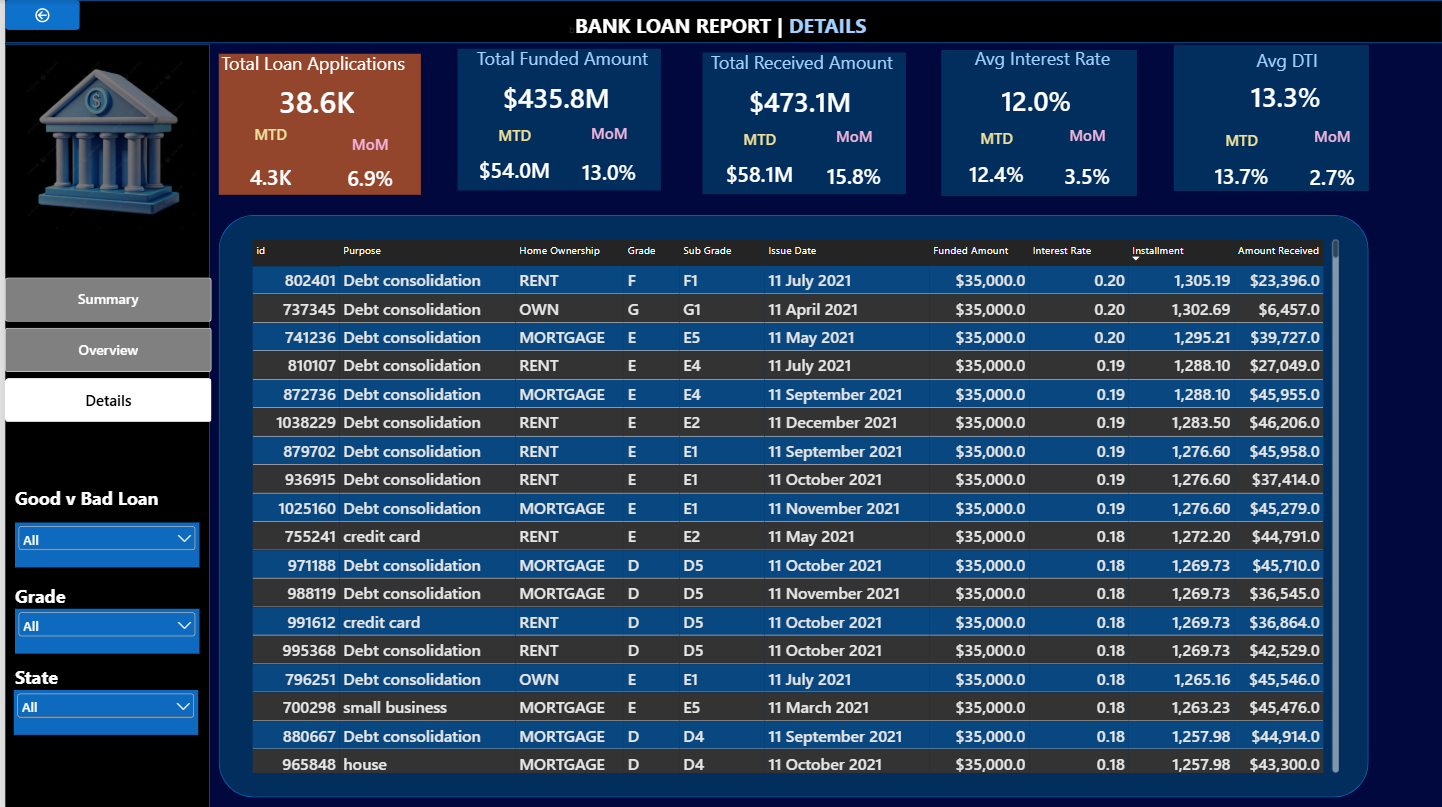

Layout of this report page (visuals, bound fields, positions):
{"tool":"powerbi","page":{"name":"Details","canvas":[1920,1080],"ordinal":2},"visuals":[{"type":"shape","box":[1562,60,260.7,195],"z":0,"group":"g5"},{"type":"shape","box":[605.3,65.8,271.7,189.4],"z":0,"group":"g2"},{"type":"shape","box":[1251.3,65.9,261.4,195.4],"z":0,"group":"g4"},{"type":"shape","box":[930.4,69.9,271.7,189.4],"z":0,"group":"g3"},{"type":"shape","box":[286,72.1,270,188.4],"z":0,"group":"g1"},{"type":"shape","box":[286,288,1536,778],"z":0},{"type":"shape","box":[0,0,1920.4,57.6],"z":1000},{"type":"cardVisual","fields":{"Data":["financial_loan.Avg DTI"]},"box":[1627.7,91.8,169.9,72.1],"z":1000,"group":"g5"},{"type":"cardVisual","fields":{"Data":["financial_loan.Total Funded Amount"]},"box":[648.7,95.1,177,70],"z":1000,"group":"g2"},{"type":"cardVisual","fields":{"Data":["financial_loan.Avg Interest Rate"]},"box":[1293,96.2,170.3,72.2],"z":1000,"group":"g4"},{"type":"cardVisual","fields":{"Data":["financial_loan.Total Amount Received"]},"box":[973.8,99.3,177,70],"z":1000,"group":"g3"},{"type":"cardVisual","fields":{"Data":["financial_loan.Total Loan Applications"]},"box":[329,100.8,175.9,67.6],"z":1000,"group":"g1"},{"type":"shape","box":[0,57.6,273.8,1023],"z":2000},{"type":"textbox","box":[613.5,61.7,263.5,65.9],"z":2000,"group":"g2"},{"type":"textbox","box":[1259.2,61.7,253.5,68],"z":2000,"group":"g4"},{"type":"textbox","box":[1587.1,64.1,252.8,67.8],"z":2000,"group":"g5"},{"type":"textbox","box":[926.2,66.1,275.8,65.9],"z":2000,"group":"g3"},{"type":"textbox","box":[290,68,266,66],"z":2000,"group":"g1"},{"type":"textbox","box":[753.3,14.4,461.1,59.7],"z":3000},{"type":"cardVisual","title":"MTD","fields":{"Data":["financial_loan.MTD Loan Applications"]},"box":[304,164.5,102,100],"z":3000,"group":"g1"},{"type":"cardVisual","title":"MTD","fields":{"Data":["financial_loan.MTD Funded Amount"]},"box":[617.8,167.2,129.7,78.2],"z":3000,"group":"g2"},{"type":"cardVisual","title":"MTD","fields":{"Data":["financial_loan.MTD Avg Int Rate"]},"box":[1263.3,170.6,124.8,80.7],"z":3000,"group":"g4"},{"type":"cardVisual","title":"MTD","fields":{"Data":["financial_loan.MTD Total Amount Received"]},"box":[942.9,171.3,129.7,78.2],"z":3000,"group":"g3"},{"type":"cardVisual","title":"MTD","fields":{"Data":["financial_loan.MTD Avg DTI"]},"box":[1591.2,172.7,124.4,80.6],"z":3000,"group":"g5"},{"type":"group","id":"g1","title":"Group 1","box":[286,68,270,196.5],"z":4000},{"type":"cardVisual","title":"MoM","fields":{"Data":["financial_loan.MoM Total Funded Amount"]},"box":[747.5,163.1,121.4,88.5],"z":4000,"group":"g2"},{"type":"cardVisual","title":"MoM","fields":{"Data":["financial_loan.MoM Avg Int Rate"]},"box":[1388.1,166.3,116.8,91.3],"z":4000,"group":"g4"},{"type":"cardVisual","title":"MoM","fields":{"Data":["financial_loan.MoM Total Amount Received"]},"box":[1072.6,167.2,121.4,88.5],"z":4000,"group":"g3"},{"type":"cardVisual","title":"MoM","fields":{"Data":["financial_loan.MoM Avg DTI"]},"box":[1715.6,168.5,116.5,91.2],"z":4000,"group":"g5"},{"type":"cardVisual","title":"MoM","fields":{"Data":["financial_loan.MoM Loan Application"]},"box":[436,177.5,104,74],"z":4000,"group":"g1"},{"type":"group","id":"g2","title":"Group 1","box":[605.3,61.7,271.7,193.5],"z":5000},{"type":"group","id":"g3","title":"Group 1","box":[926.2,66.1,275.9,193.2],"z":6000},{"type":"group","id":"g4","title":"Group 1","box":[1251.3,61.7,261.4,199.7],"z":7000},{"type":"group","id":"g5","title":"Group 1","box":[1562,60,278,200],"z":8000},{"type":"textbox","box":[354,306,236,46],"z":9000},{"type":"textbox","box":[276,74,1644,150],"z":10000},{"type":"slicer","fields":{"Values":["financial_loan.address_state"]},"box":[12,922,246,60],"z":11000},{"type":"textbox","box":[14,888,86,34],"z":12000},{"type":"slicer","fields":{"Values":["financial_loan.grade"]},"box":[14,814,246,60],"z":13000},{"type":"textbox","box":[14,780,86,34],"z":14000},{"type":"slicer","fields":{"Values":["financial_loan.Good v Bad Loan"]},"box":[14,698,246,60],"z":15000},{"type":"textbox","box":[14,650,222,48],"z":16000},{"type":"tableEx","fields":{"Values":["financial_loan.id","financial_loan.purpose","financial_loan.home_ownership","financial_loan.grade","financial_loan.sub_grade","financial_loan.issue_date","financial_loan.Total Funded Amount","Sum(financial_loan.int_rate)","Sum(financial_loan.installment)","financial_loan.Total Amount Received"]},"box":[314,306,1484,742],"z":19000},{"type":"actionButton","box":[0,0,100,40],"z":20000},{"type":"image","box":[24,60,230,260],"z":20001},{"type":"pageNavigator","box":[0,370,276,194],"z":20002}]}

Visuals, with their boxes on the page's 1920x1080 design canvas (x1, y1, x2, y2). These are canvas units, not pixel positions in the 1442x807 screenshot, which may show the page scaled, cropped or inside an application window:
shape: bbox=[1562, 60, 1823, 255]
shape: bbox=[605, 66, 877, 255]
shape: bbox=[1251, 66, 1513, 261]
shape: bbox=[930, 70, 1202, 259]
shape: bbox=[286, 72, 556, 260]
shape: bbox=[286, 288, 1822, 1066]
shape: bbox=[0, 0, 1920, 58]
cardVisual - financial_loan.Avg DTI: bbox=[1628, 92, 1798, 164]
cardVisual - financial_loan.Total Funded Amount: bbox=[649, 95, 826, 165]
cardVisual - financial_loan.Avg Interest Rate: bbox=[1293, 96, 1463, 168]
cardVisual - financial_loan.Total Amount Received: bbox=[974, 99, 1151, 169]
cardVisual - financial_loan.Total Loan Applications: bbox=[329, 101, 505, 168]
shape: bbox=[0, 58, 274, 1081]
textbox: bbox=[614, 62, 877, 128]
textbox: bbox=[1259, 62, 1513, 130]
textbox: bbox=[1587, 64, 1840, 132]
textbox: bbox=[926, 66, 1202, 132]
textbox: bbox=[290, 68, 556, 134]
textbox: bbox=[753, 14, 1214, 74]
"MTD" cardVisual: bbox=[304, 164, 406, 264]
"MTD" cardVisual: bbox=[618, 167, 748, 245]
"MTD" cardVisual: bbox=[1263, 171, 1388, 251]
"MTD" cardVisual: bbox=[943, 171, 1073, 250]
"MTD" cardVisual: bbox=[1591, 173, 1716, 253]
"Group 1" group: bbox=[286, 68, 556, 264]
"MoM" cardVisual: bbox=[748, 163, 869, 252]
"MoM" cardVisual: bbox=[1388, 166, 1505, 258]
"MoM" cardVisual: bbox=[1073, 167, 1194, 256]
"MoM" cardVisual: bbox=[1716, 168, 1832, 260]
"MoM" cardVisual: bbox=[436, 178, 540, 252]
"Group 1" group: bbox=[605, 62, 877, 255]
"Group 1" group: bbox=[926, 66, 1202, 259]
"Group 1" group: bbox=[1251, 62, 1513, 261]
"Group 1" group: bbox=[1562, 60, 1840, 260]
textbox: bbox=[354, 306, 590, 352]
textbox: bbox=[276, 74, 1920, 224]
slicer - financial_loan.address_state: bbox=[12, 922, 258, 982]
textbox: bbox=[14, 888, 100, 922]
slicer - financial_loan.grade: bbox=[14, 814, 260, 874]
textbox: bbox=[14, 780, 100, 814]
slicer - financial_loan.Good v Bad Loan: bbox=[14, 698, 260, 758]
textbox: bbox=[14, 650, 236, 698]
tableEx - financial_loan.id x financial_loan.purpose: bbox=[314, 306, 1798, 1048]
actionButton: bbox=[0, 0, 100, 40]
image: bbox=[24, 60, 254, 320]
pageNavigator: bbox=[0, 370, 276, 564]
